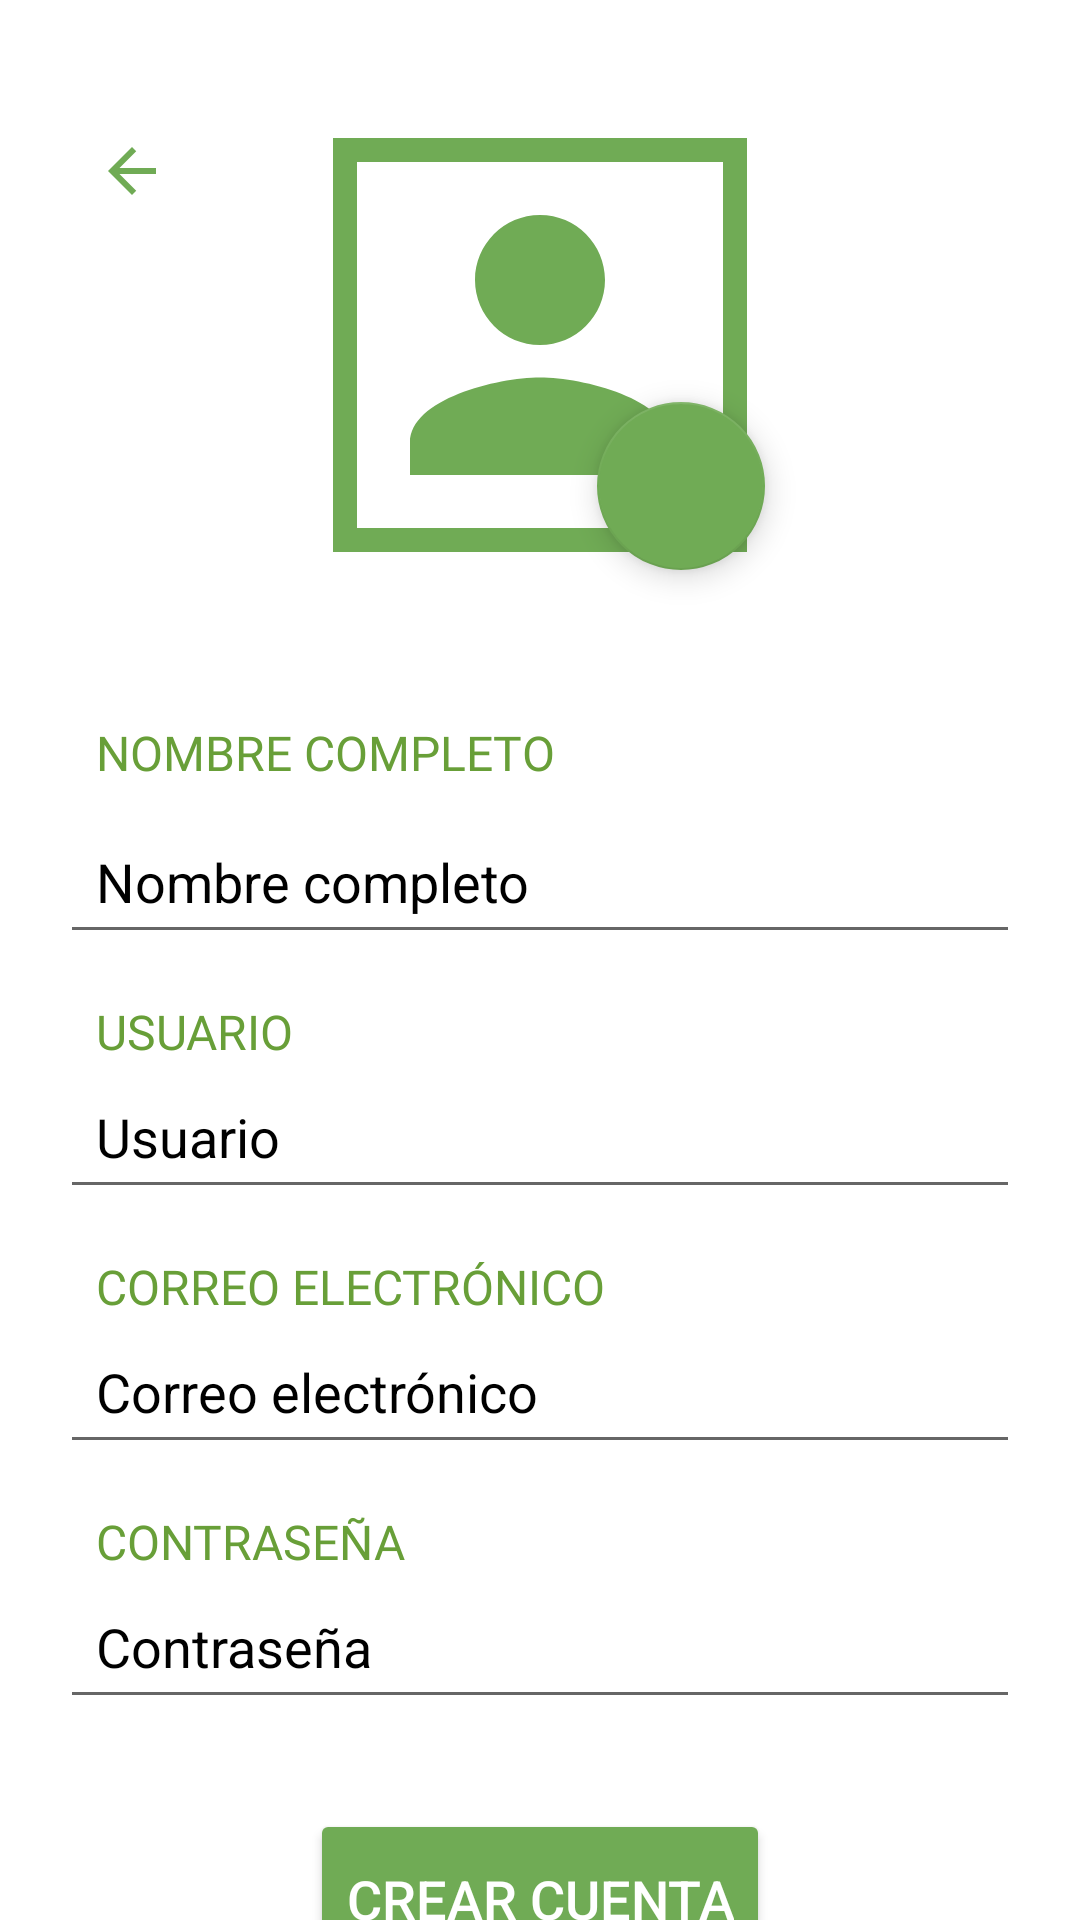

Icon bounding boxes for this 1080px×1920px phone screenshot, format (x1, y1, x2, y2):
flecha atras: (108, 147, 156, 195)
